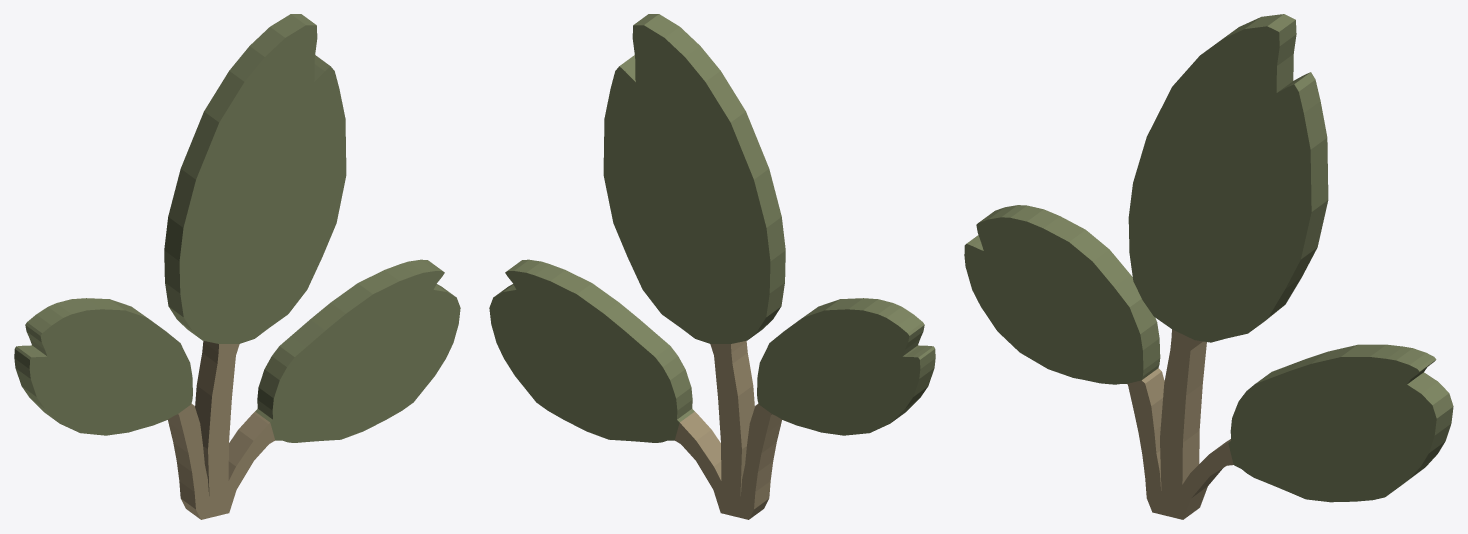
Rendered from Flower_1.fbx.
The picture shows the model from 3 angles, left to right: view 1: azimuth 30°, elevation 25°; view 2: azimuth 150°, elevation 25°; view 3: azimuth 330°, elevation 25°; orthographic projection. The views are drawn at different scales.
Visible parts, largest first — view 1: pPlane67; view 2: pPlane67; view 3: pPlane67.
Boxes of the visible parts, box(x1,y1,x2,y2) form: pPlane67: box(14, 14, 460, 519); pPlane67: box(489, 14, 935, 519); pPlane67: box(964, 14, 1453, 519).
Size of the model in its own units: 0.8287 by 0.8622 by 0.0511.
